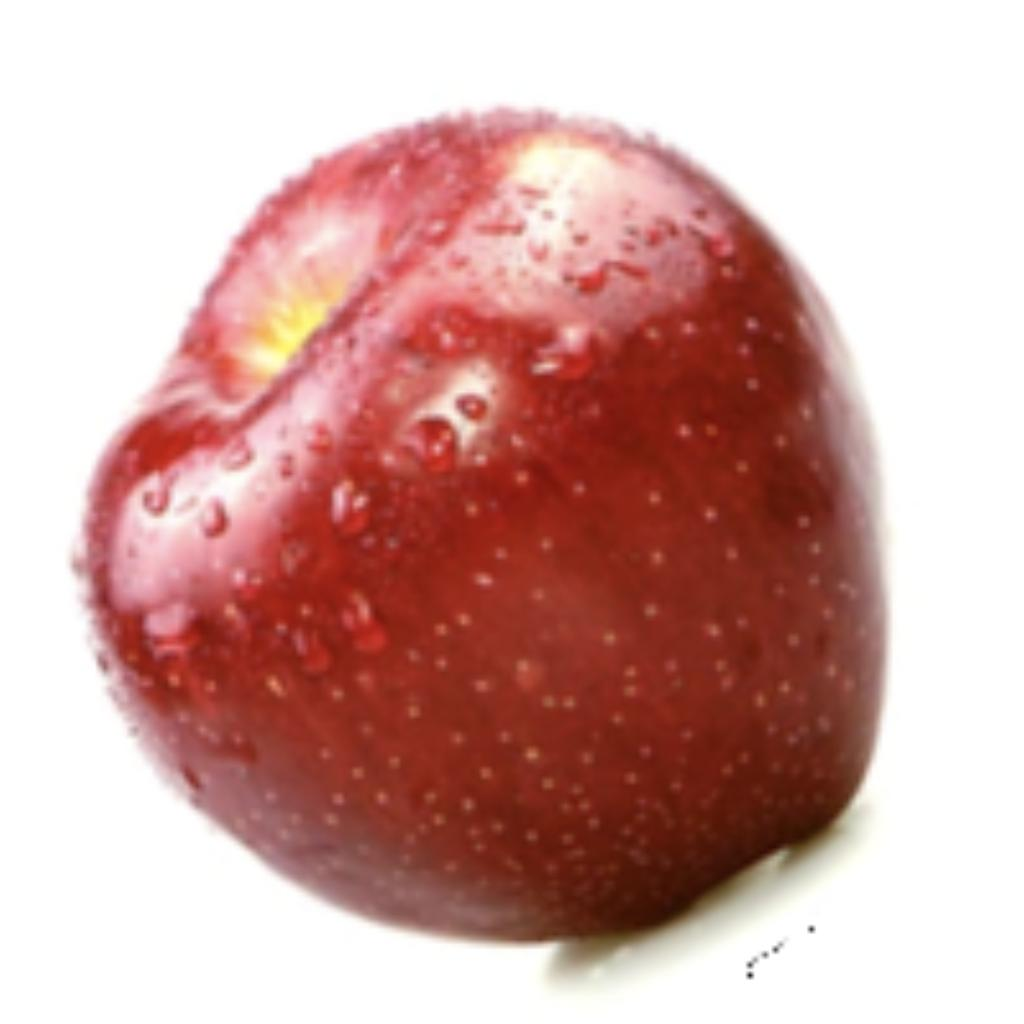apple: (61, 97, 896, 998)
